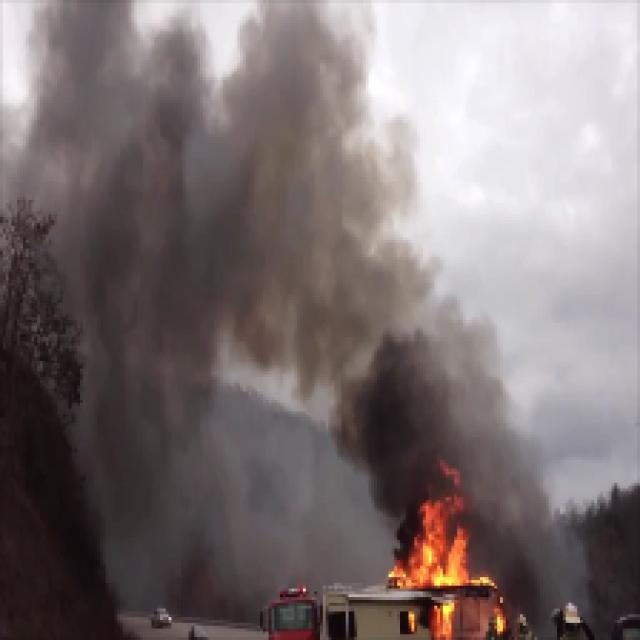Fire: (396, 522, 462, 585)
Smoke: (86, 120, 232, 334), (235, 146, 364, 352), (364, 342, 465, 490)
